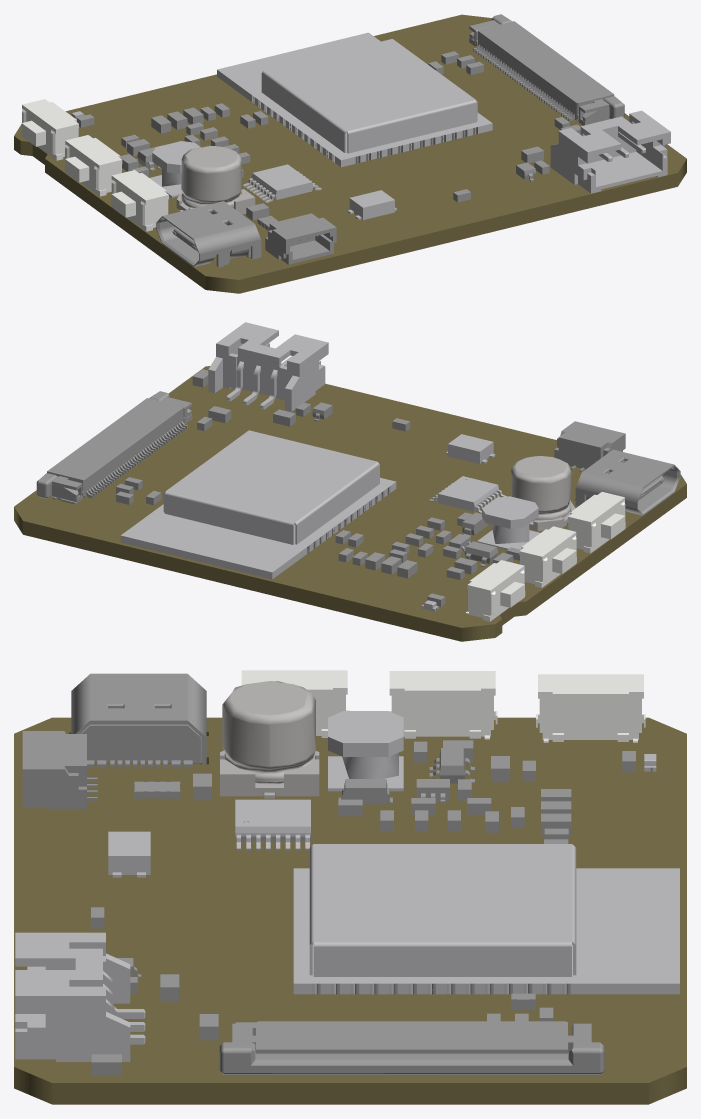
The model's file is ada-5800.glb.
3 renders of one model, top to bottom at view 1: azimuth 30°, elevation 25°; view 2: azimuth 150°, elevation 25°; view 3: azimuth 270°, elevation 25°, orthographic. The views are drawn at different scales.
Visible parts, largest first — view 1: 0.16666666666666666_0.16666666666666666_0.08333333333333333_, 0.5833333333333334_0.5833333333333334_0.5833333333333334_0.8, 0.3333333333333333_0.3333333333333333_0.3333333333333333_0, 0.9166666666666666_0.9166666666666666_0.9166666666666666_0.8, 0.5_0.5_0.5_0.85; view 2: 0.16666666666666666_0.16666666666666666_0.08333333333333333_, 0.5833333333333334_0.5833333333333334_0.5833333333333334_0.8, 0.3333333333333333_0.3333333333333333_0.3333333333333333_0, 0.9166666666666666_0.9166666666666666_0.9166666666666666_0.8, 0.5_0.5_0.5_0.85; view 3: 0.16666666666666666_0.16666666666666666_0.08333333333333333_, 0.5833333333333334_0.5833333333333334_0.5833333333333334_0.8, 0.3333333333333333_0.3333333333333333_0.3333333333333333_0, 0.9166666666666666_0.9166666666666666_0.9166666666666666_0.8, 0.5_0.5_0.5_0.85.
Part boxes in pixels (x1,y1,x2,y2): 0.16666666666666666_0.16666666666666666_0.08333333333333333_: (14,14,686,293); 0.5833333333333334_0.5833333333333334_0.5833333333333334_0.8: (71,32,670,219); 0.3333333333333333_0.3333333333333333_0.3333333333333333_0: (76,14,664,267); 0.9166666666666666_0.9166666666666666_0.9166666666666666_0.8: (21,99,168,231); 0.5_0.5_0.5_0.85: (176,145,255,214); 0.16666666666666666_0.16666666666666666_0.08333333333333333_: (14,366,686,641); 0.5833333333333334_0.5833333333333334_0.5833333333333334_0.8: (120,322,539,611); 0.3333333333333333_0.3333333333333333_0.3333333333333333_0: (36,369,680,606); 0.9166666666666666_0.9166666666666666_0.9166666666666666_0.8: (465,492,625,621); 0.5_0.5_0.5_0.85: (511,456,575,531); 0.16666666666666666_0.16666666666666666_0.08333333333333333_: (14,717,686,1104); 0.5833333333333334_0.5833333333333334_0.5833333333333334_0.8: (15,711,679,1061); 0.3333333333333333_0.3333333333333333_0.3333333333333333_0: (22,673,635,1075); 0.9166666666666666_0.9166666666666666_0.9166666666666666_0.8: (241,670,645,742); 0.5_0.5_0.5_0.85: (220,681,319,798).
Bounding box in the file's own units: 5.82 × 0.7211 × 4.45.
